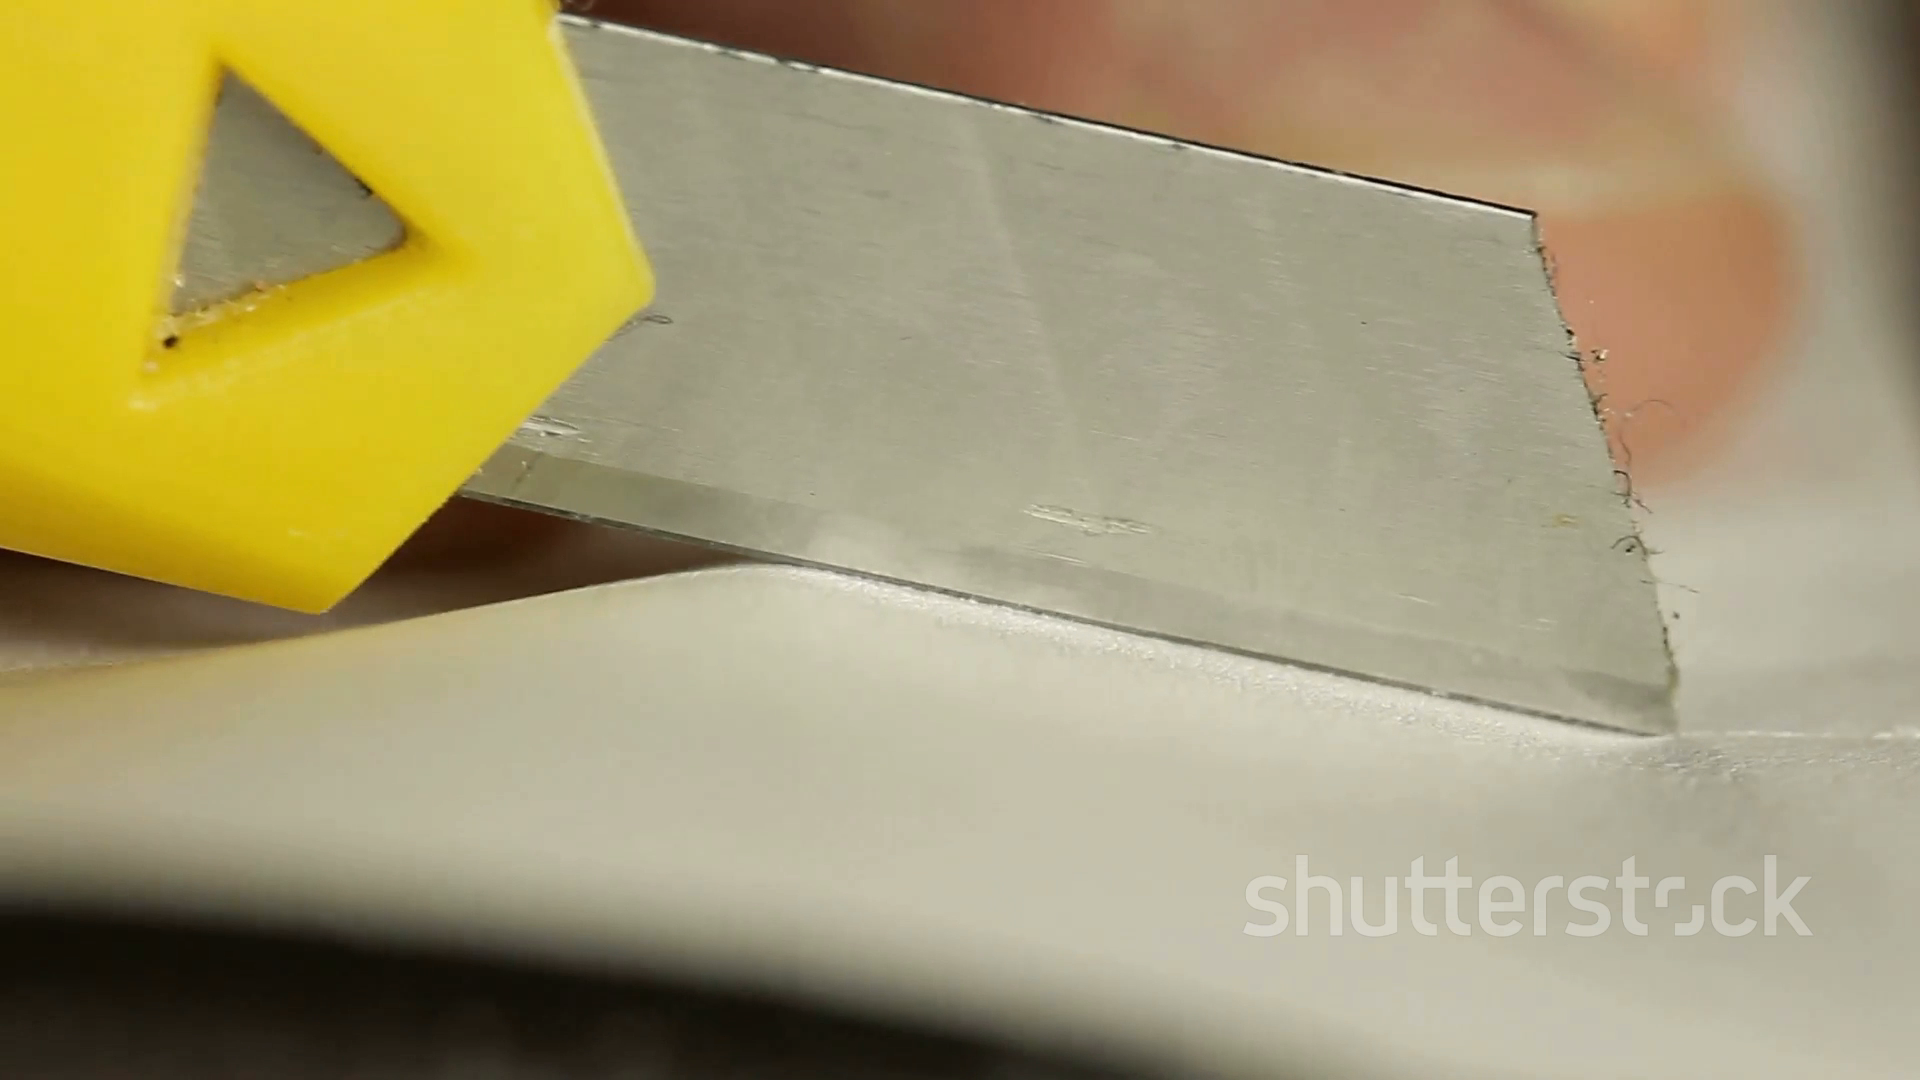cortante: (460, 20, 1672, 737)
